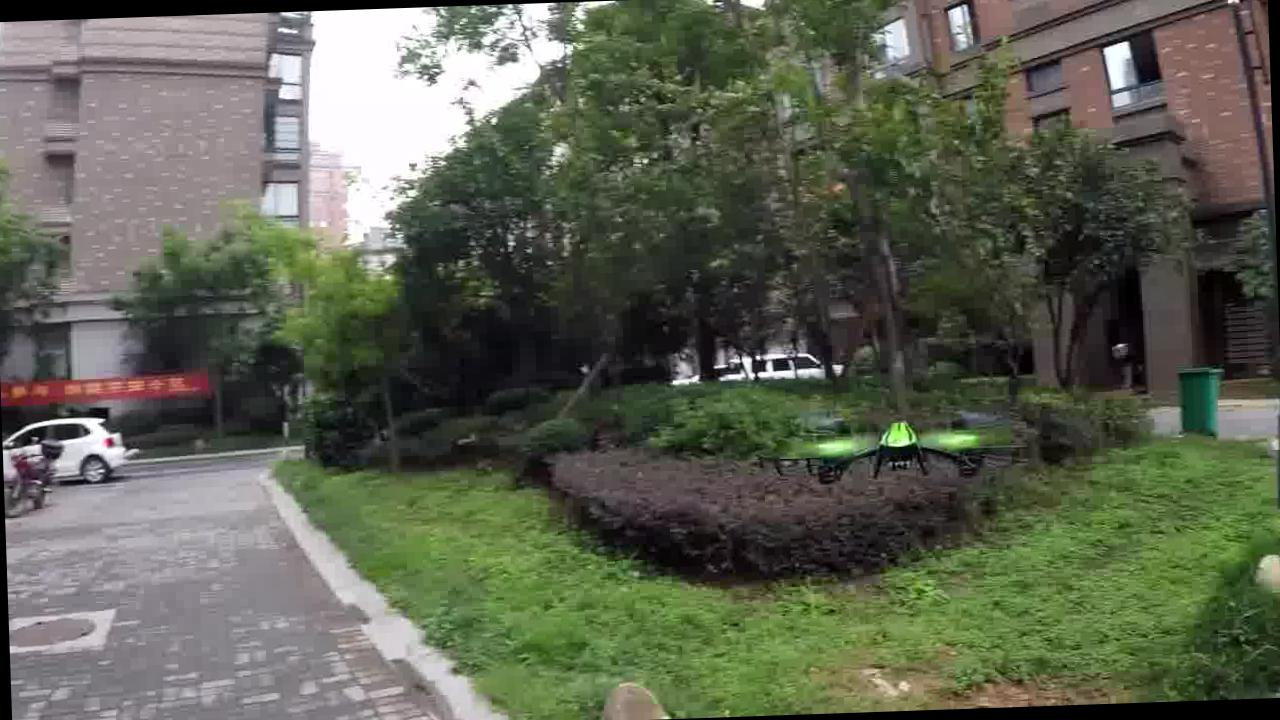drone: (768, 412, 1018, 490)
